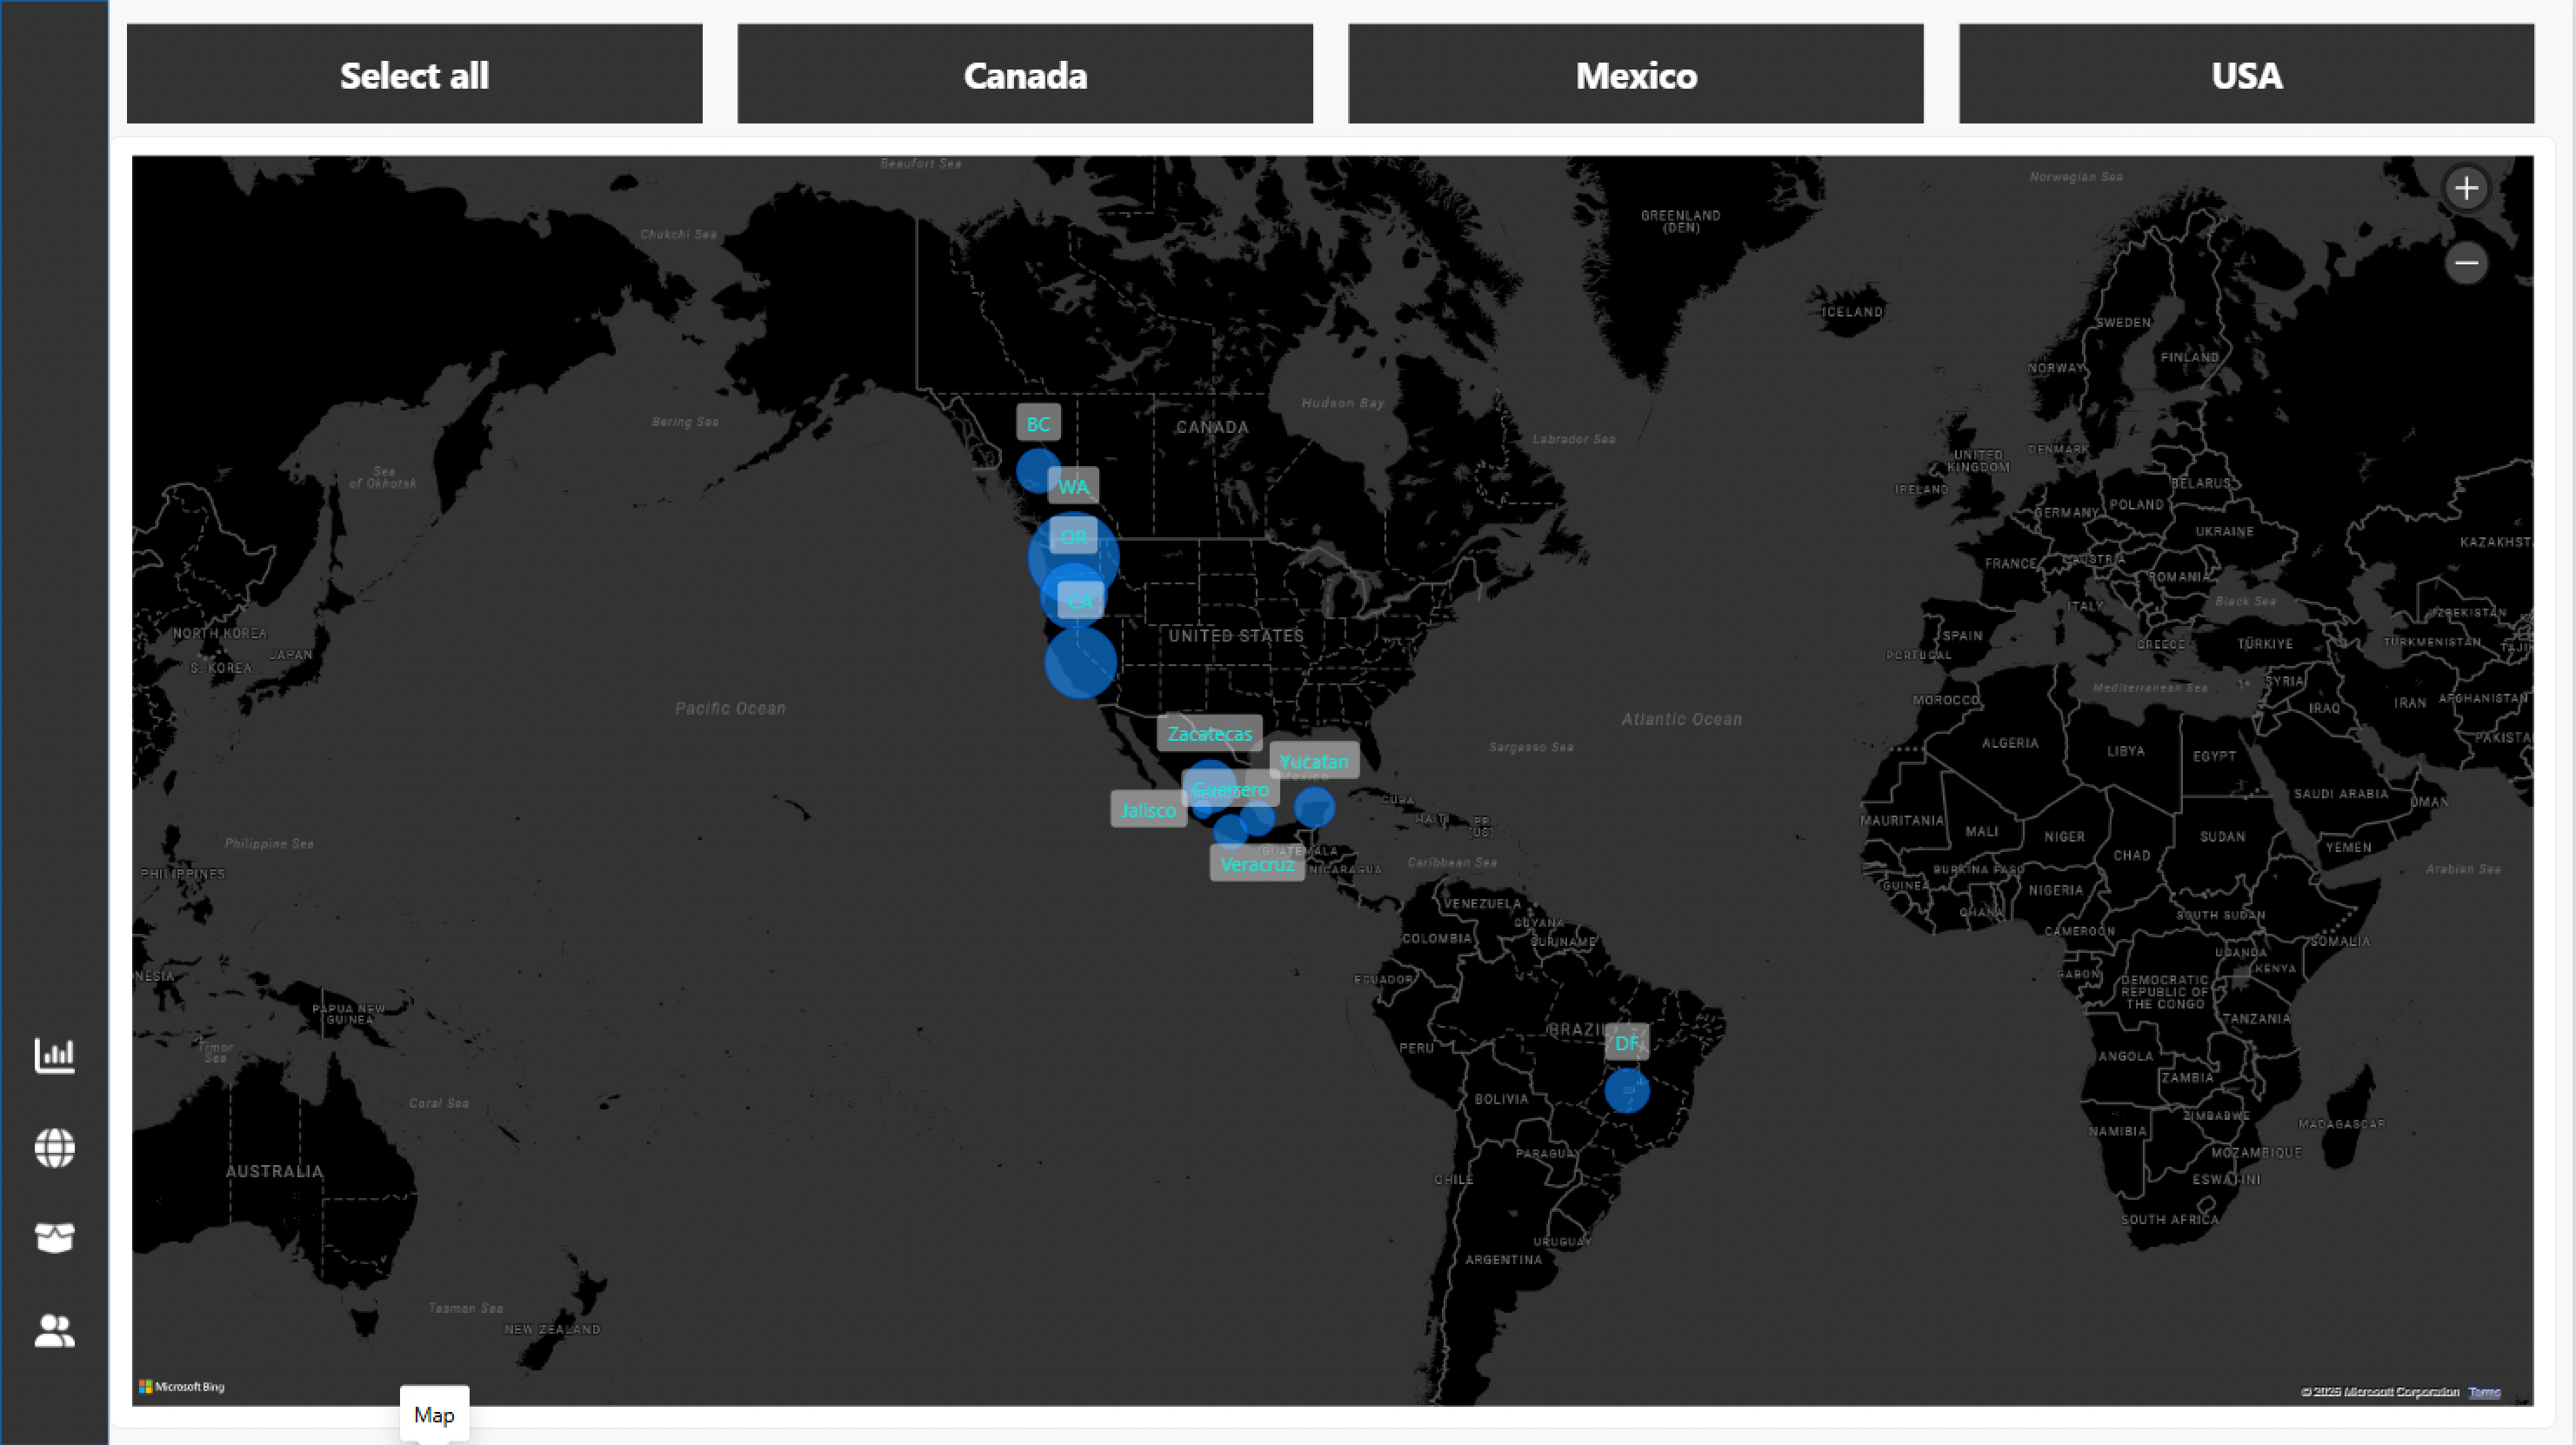

Layout of this report page (visuals, bound fields, positions):
{"tool":"powerbi","page":{"name":"Map","canvas":[1920,1080],"ordinal":1},"visuals":[{"type":"map","fields":{"Category":["Stores.store_state"],"Size":["Measure Table (DAX).Total Transactions"]},"box":[81.4,101.4,1827.1,965.7],"z":0},{"type":"advancedSlicerVisual","fields":{"Values":["Stores.store_country"]},"box":[81.4,10,1827.1,91.4],"z":1000},{"type":"shape","box":[0,0,81.4,1080],"z":2000},{"type":"actionButton","title":"Customer Detail","box":[0,959.7,81,68.4],"z":2000,"group":"g1"},{"type":"actionButton","title":"Product Detail","box":[0,891.3,81,68.4],"z":2250,"group":"g1"},{"type":"actionButton","title":"Map","box":[0,823,81,68.4],"z":2500,"group":"g1"},{"type":"group","id":"g1","title":"Navigation Pane","box":[0,754.6,81,273.5],"z":3000},{"type":"actionButton","title":"Dashboard","box":[0,754.6,81,68.4],"z":3000,"group":"g1"}]}

Visuals, with their boxes in screenshot pixels (x1, y1, x2, y2):
map - Stores.store_state x Measure Table (DAX).Total Transactions: left=121, top=140, right=2527, bottom=1412
advancedSlicerVisual - Stores.store_country: left=121, top=20, right=2527, bottom=140
shape: left=13, top=7, right=121, bottom=1428
"Customer Detail" actionButton: left=13, top=1270, right=120, bottom=1361
"Product Detail" actionButton: left=13, top=1180, right=120, bottom=1270
"Map" actionButton: left=13, top=1090, right=120, bottom=1181
"Navigation Pane" group: left=13, top=1000, right=120, bottom=1361
"Dashboard" actionButton: left=13, top=1000, right=120, bottom=1090
